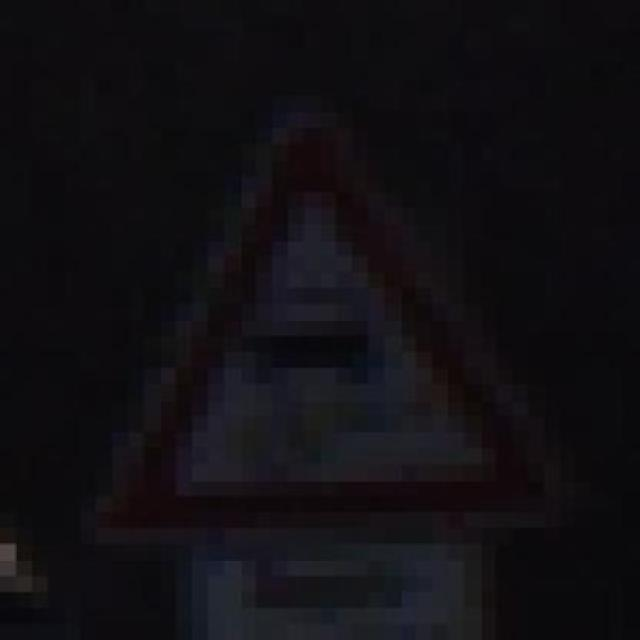Slippery Road Ahead: (88, 89, 568, 537)
